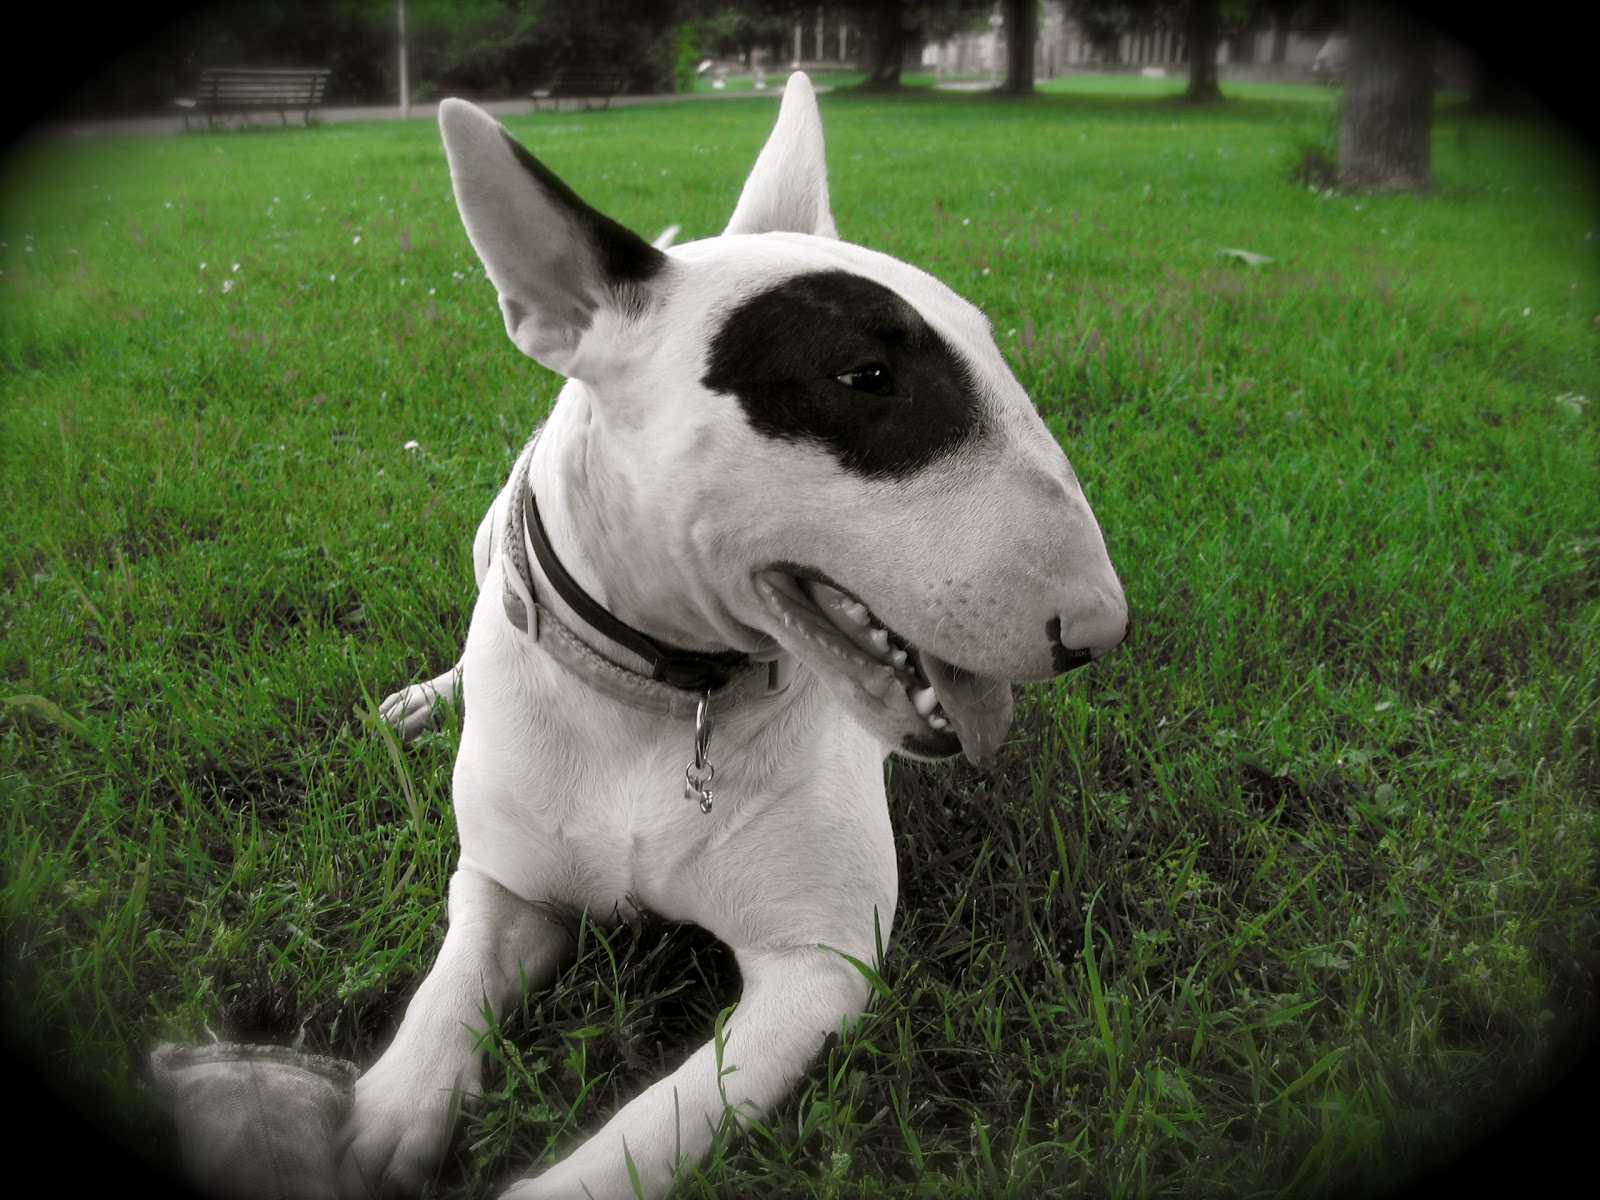bull_terrier: (336, 62, 1133, 1200)
